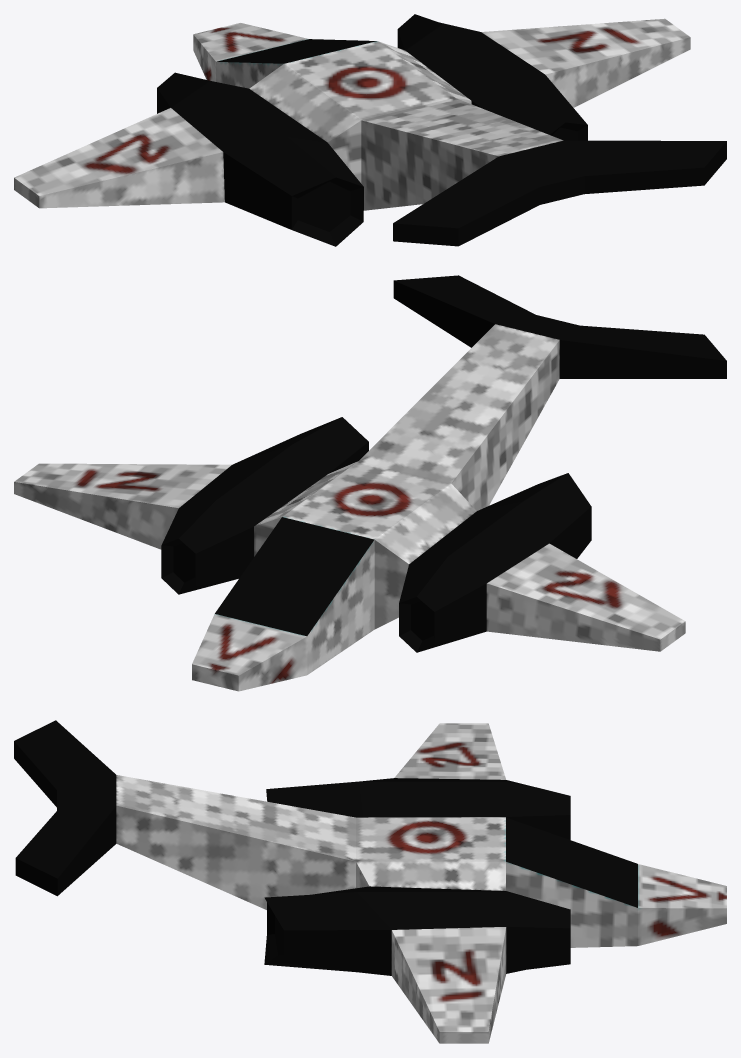
3 renders of one model, top to bottom at view 1: azimuth 30°, elevation 25°; view 2: azimuth 150°, elevation 25°; view 3: azimuth 270°, elevation 25°, orthographic. The views are drawn at different scales.
Parts seen in each view (by area): view 1: Cube; view 2: Cube; view 3: Cube.
Boxes of the visible parts, <box> form: Cube: <box>14,14,726,246</box>; Cube: <box>14,275,726,691</box>; Cube: <box>14,720,726,1043</box>.
Size of the model in its own units: 3.47 by 0.7207 by 3.39.
1 material, 1 textured.
